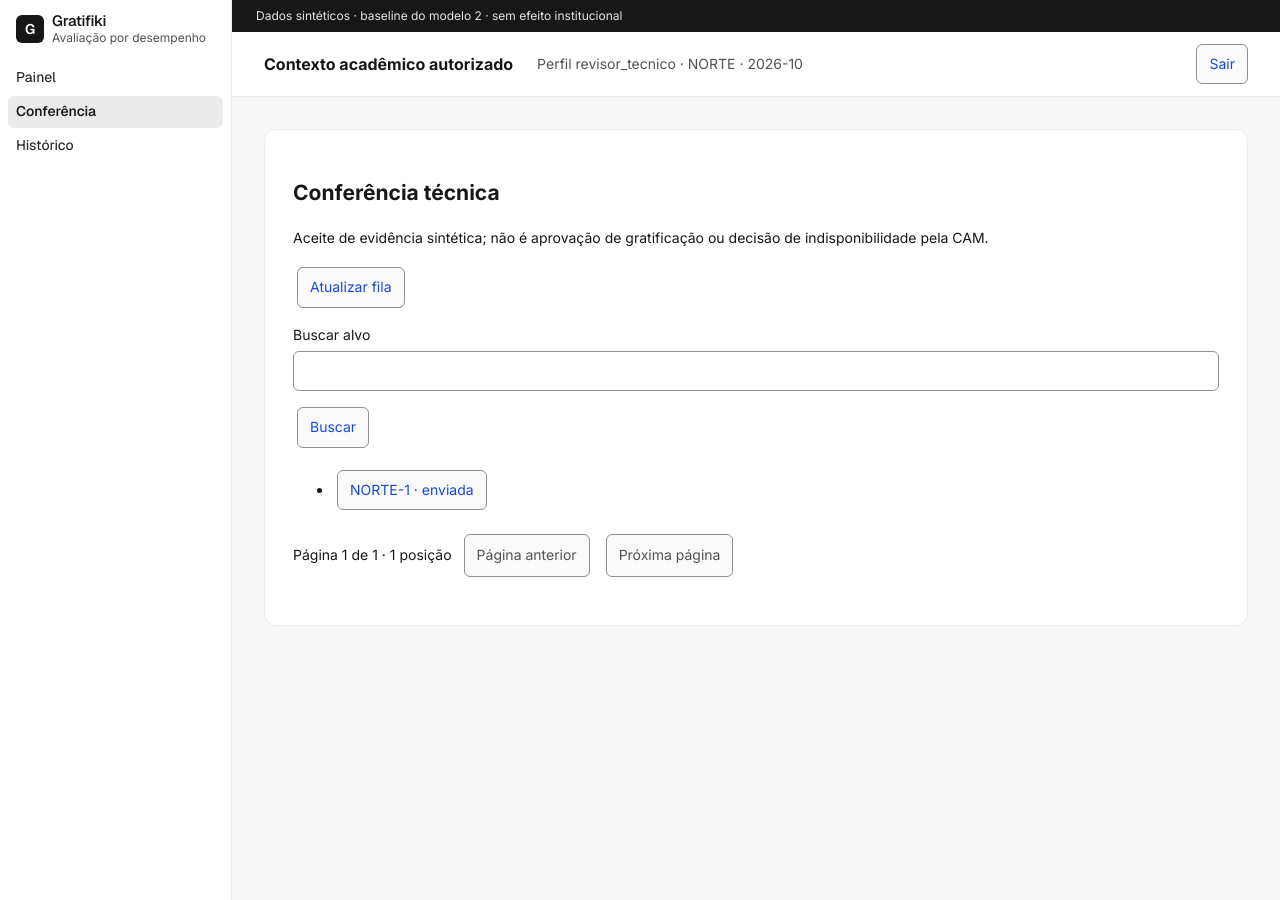
Test: retains the exact pending review operation after an ambiguous response and retries it
Click the button "NORTE-1 · enviada". click: (412,490)
box: [337,470,487,510]
(page scrolled)
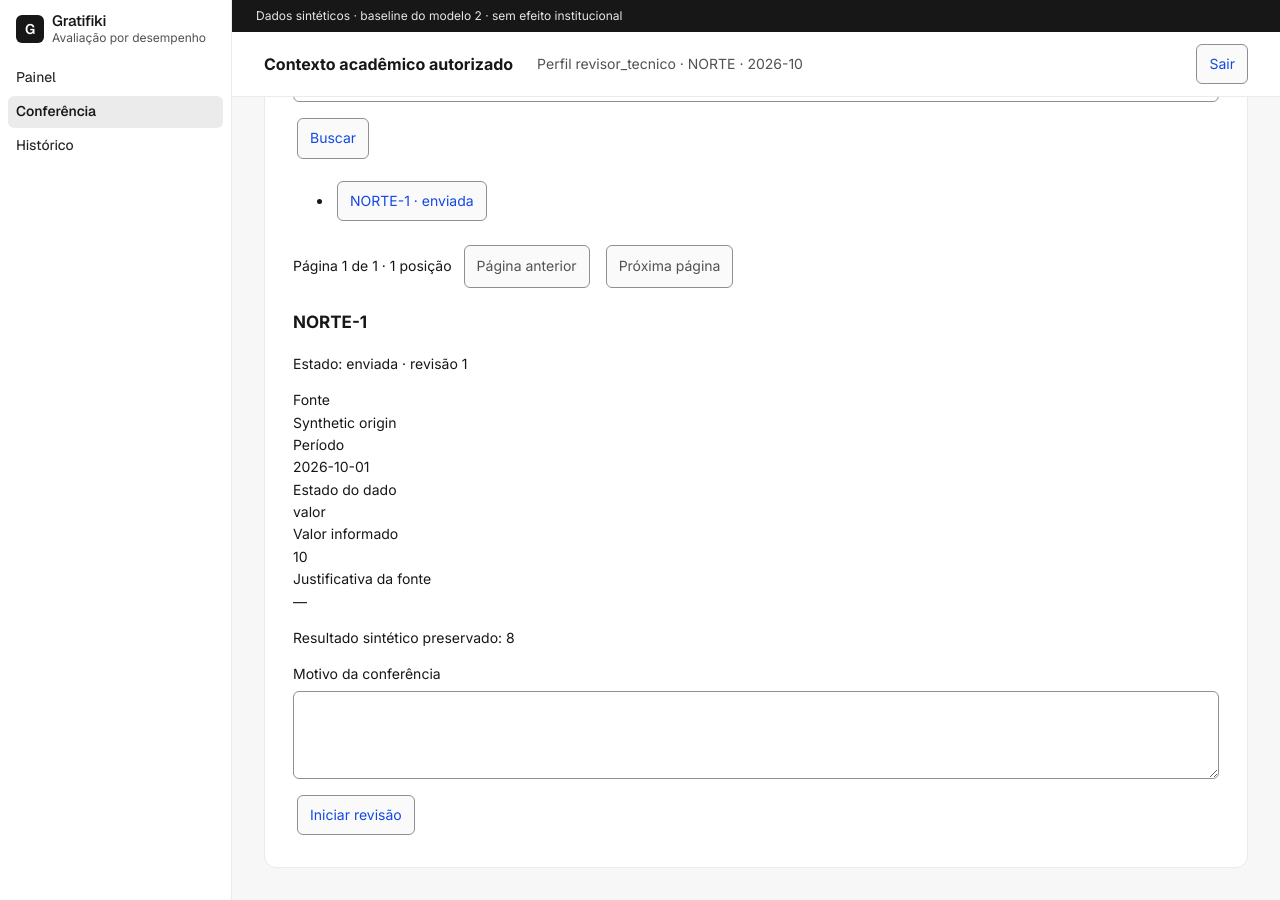
Click the button "Iniciar revisão". click: (356,815)
box: [297,795,415,835]
(page scrolled)
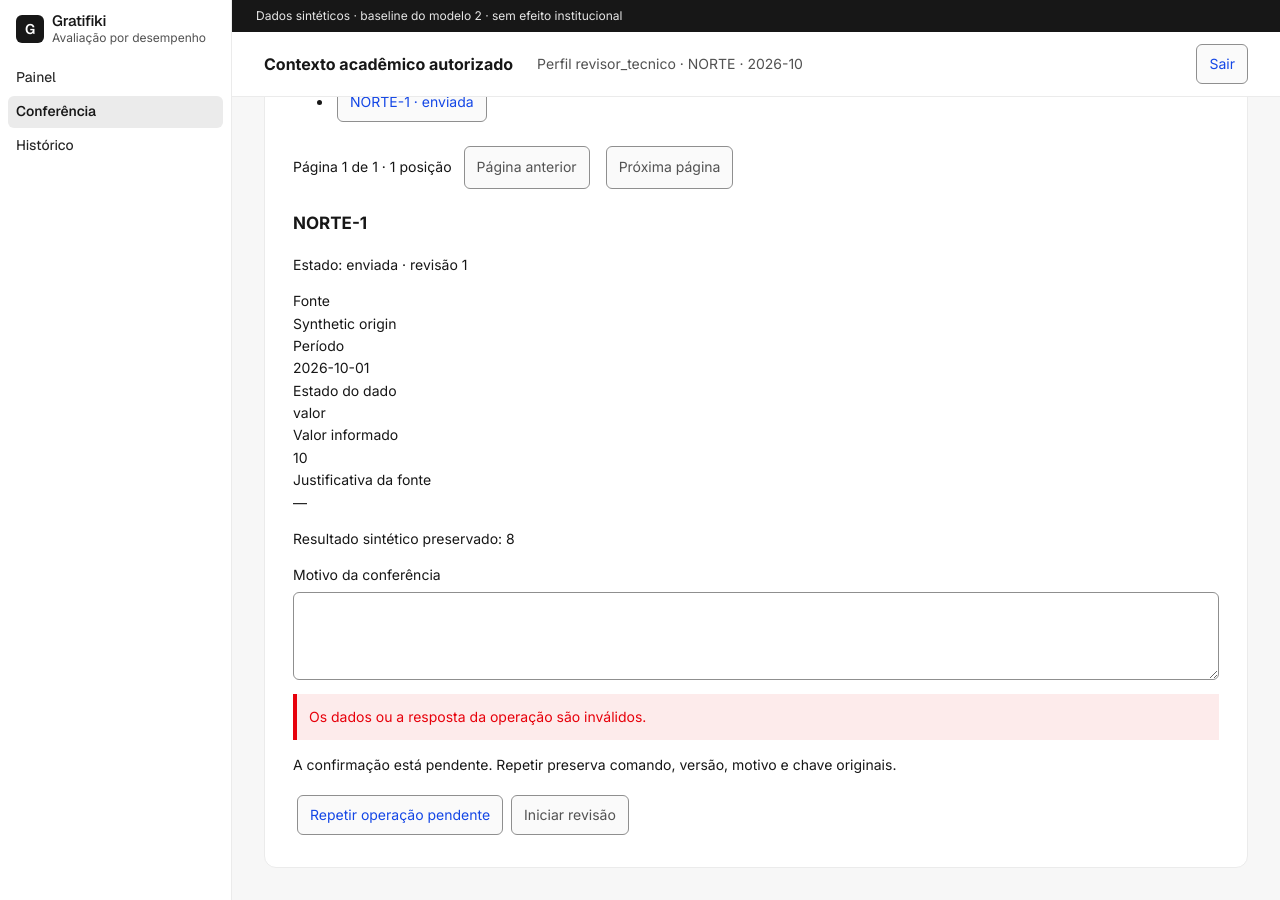
Click the button "Repetir operação pendente". click: (400,815)
box: [297,795,503,835]
(page scrolled)
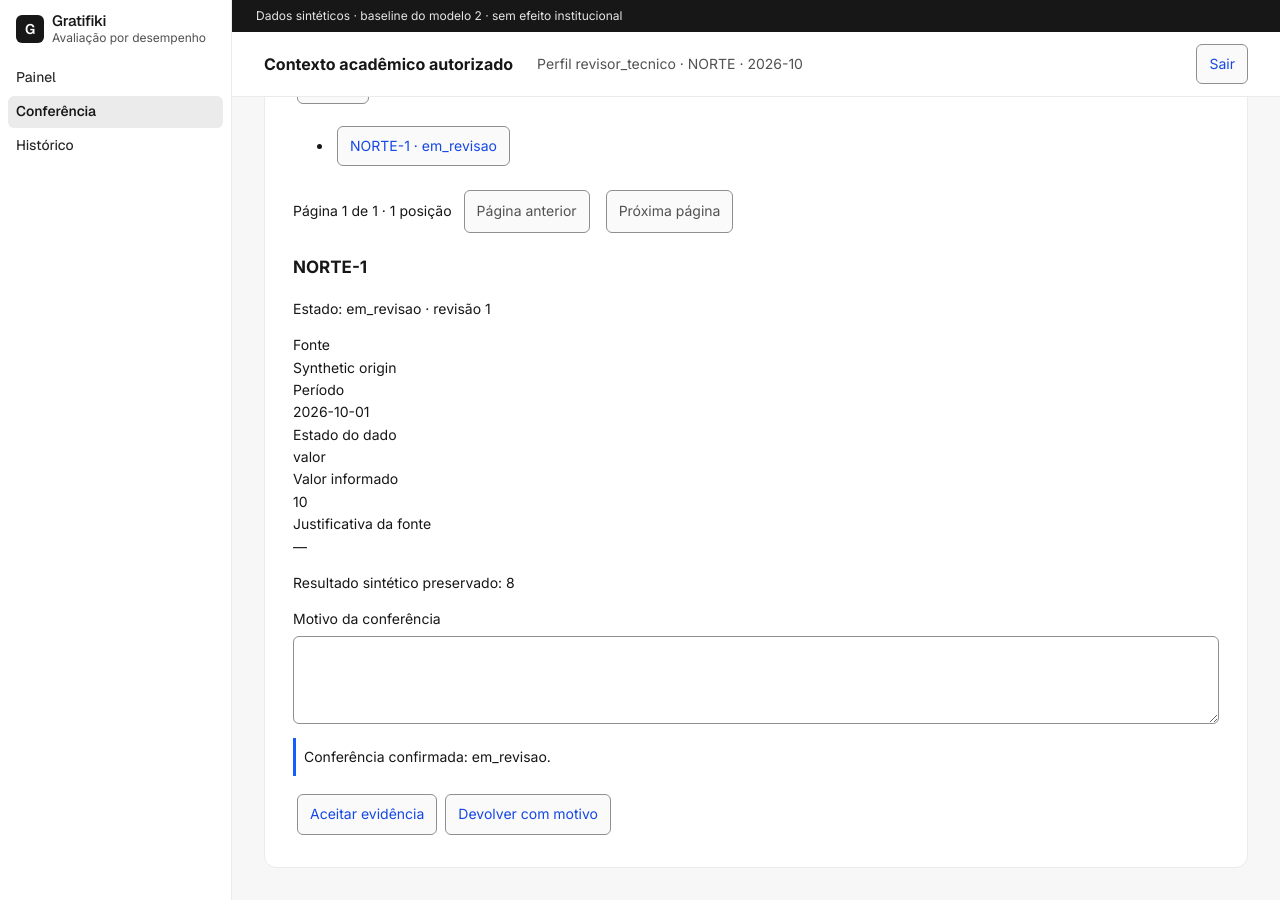
Check: the button "Aceitar evidência" is shown, box [297,794,437,835]
